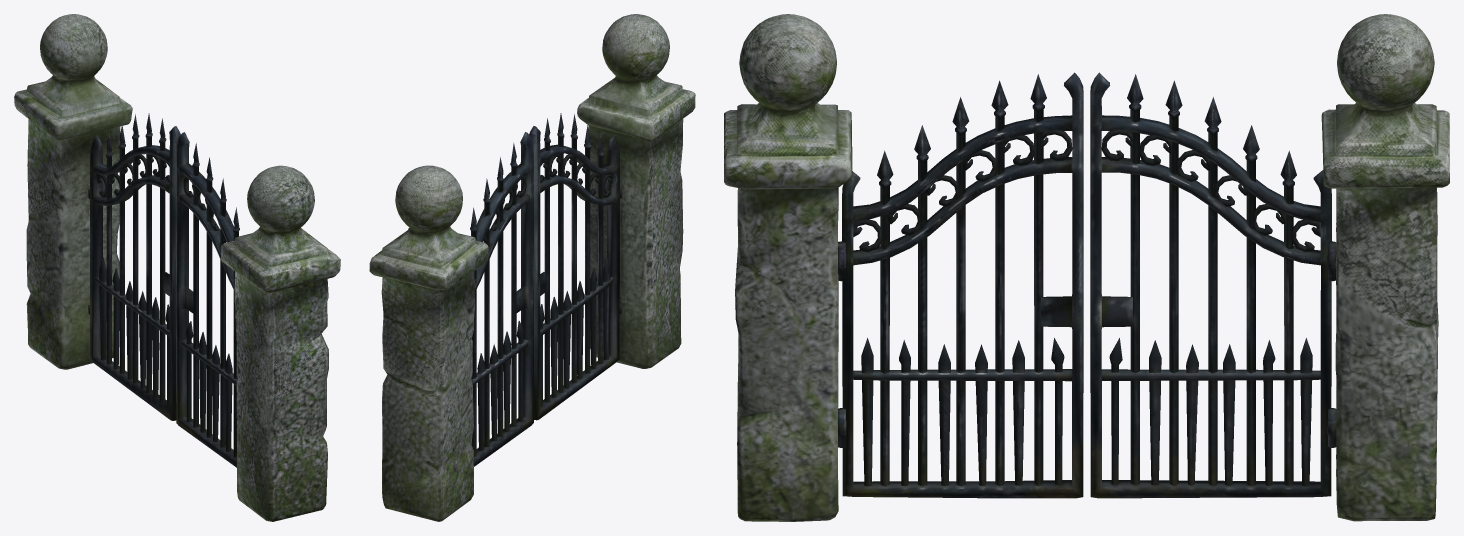
The model's file is SM_Env_BaskervilleManorGate.fbx.
3 renders of one model, left to right at view 1: azimuth 30°, elevation 25°; view 2: azimuth 150°, elevation 25°; view 3: azimuth 270°, elevation 25°, orthographic. The views are drawn at different scales.
Visible parts, largest first — view 1: SM_Env_BaskervilleManorGate; view 2: SM_Env_BaskervilleManorGate; view 3: SM_Env_BaskervilleManorGate.
Boxes of the visible parts, x1,y1,x2,y2 form: SM_Env_BaskervilleManorGate: (14,14,340,521); SM_Env_BaskervilleManorGate: (369,14,695,521); SM_Env_BaskervilleManorGate: (724,14,1449,521).
Bounding box in the file's own units: 21.95 × 122 × 90.
1 material, 1 textured.
